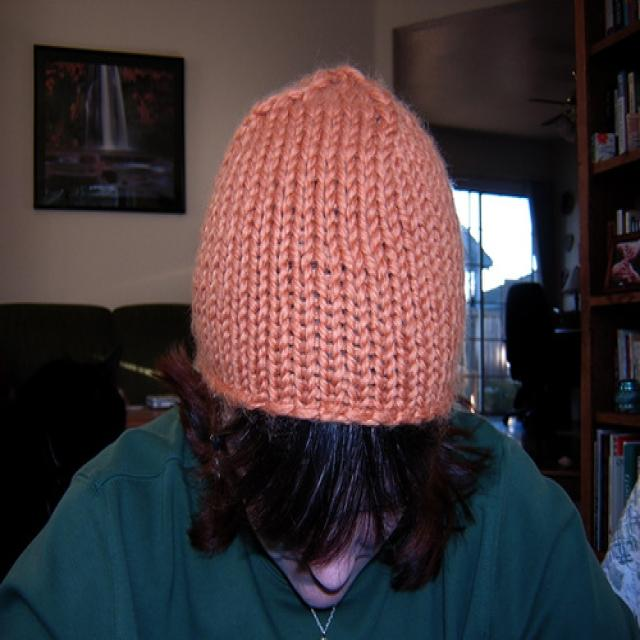chair: (501, 281, 572, 426)
person: (1, 66, 640, 639)
